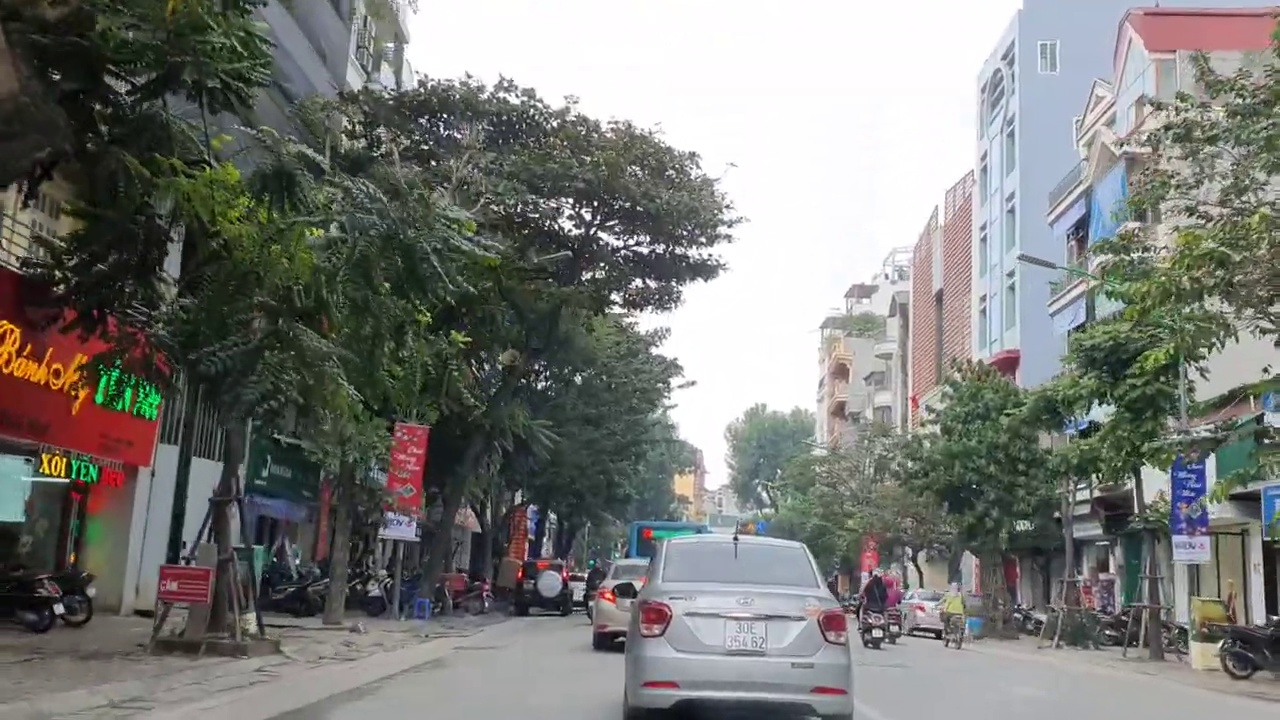vehicle-plate: (723, 608, 777, 660)
